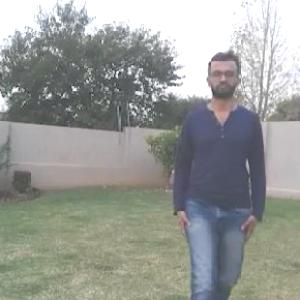follow: (179, 54, 261, 299)
